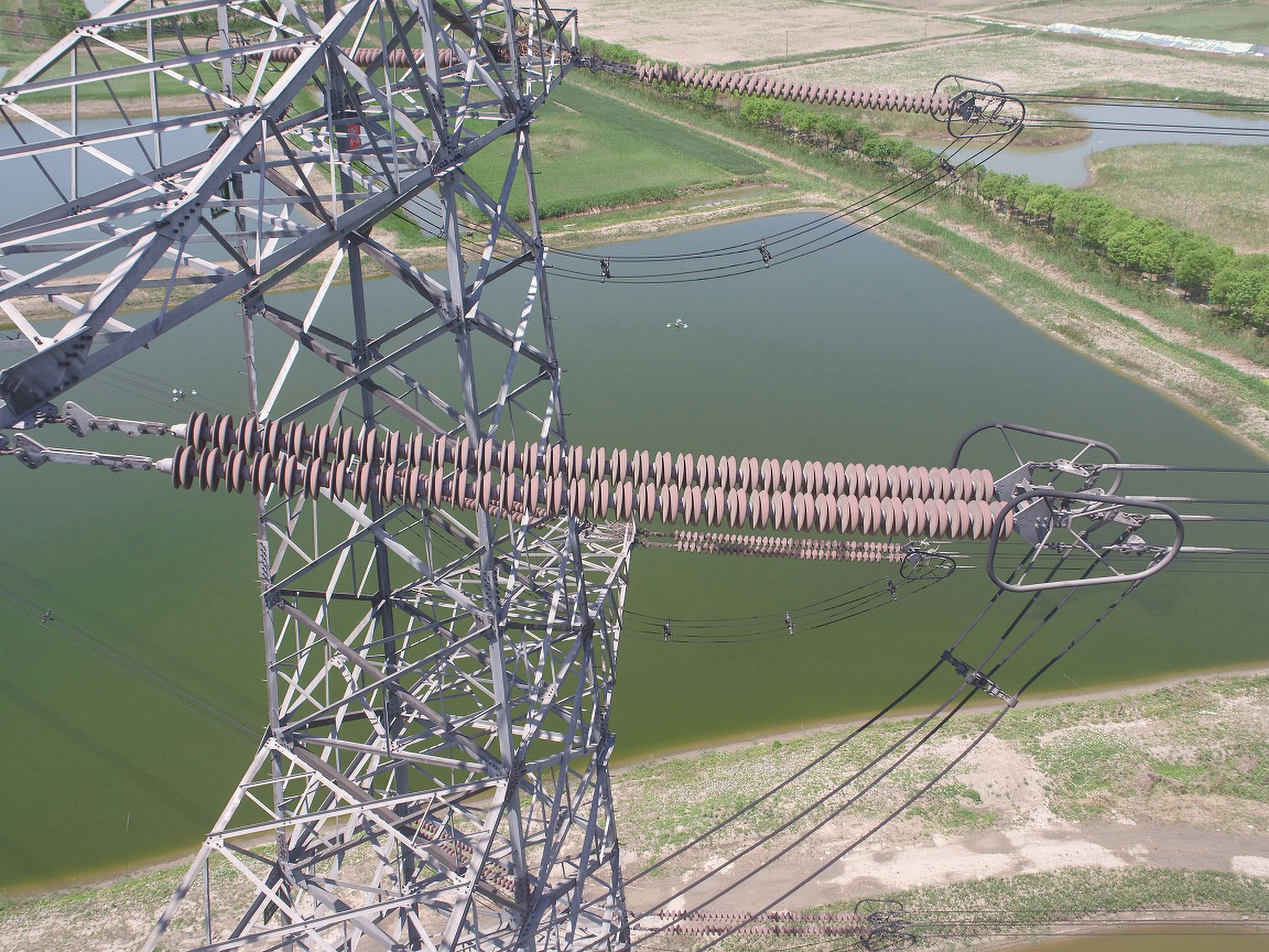insulator: (165, 407, 1017, 547), (632, 56, 959, 117), (377, 463, 559, 531), (669, 527, 910, 566), (411, 816, 518, 895), (657, 907, 875, 940), (249, 40, 474, 71)
